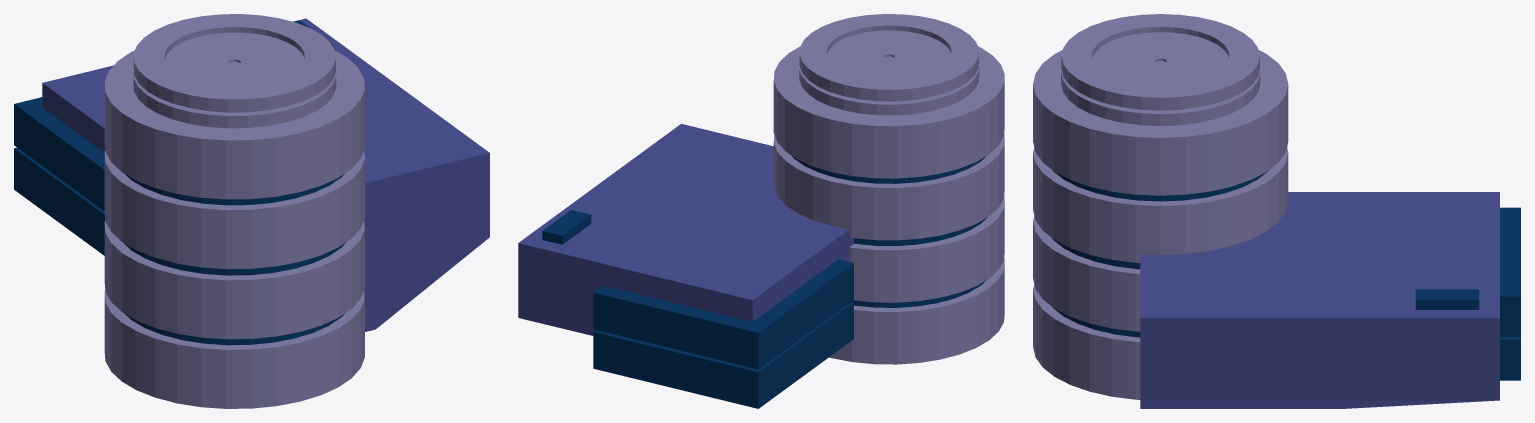
File: bUILDING6.fbx
The picture shows the model from 3 angles, left to right: view 1: azimuth 30°, elevation 25°; view 2: azimuth 150°, elevation 25°; view 3: azimuth 270°, elevation 25°; orthographic projection. The views are drawn at different scales.
Parts seen in each view (by area): view 1: Cylinder.002, Cube, Cylinder.001, Cylinder, Cylinder.003, Cylinder.007, Cube.002, Cube.001, Cylinder.005, Cylinder.006, Cylinder.004; view 2: Cube, Cylinder.002, Cylinder.003, Cube.002, Cube.001, Cylinder, Cylinder.001, Cylinder.007, Cube.003, Cylinder.006, Cylinder.005, Cylinder.004; view 3: Cube, Cylinder.002, Cylinder.003, Cylinder.001, Cylinder, Cylinder.007, Cube.002, Cube.003, Cylinder.006, Cube.001, Cylinder.005, Cylinder.004.
Part boxes in pixels (x1=…): Cylinder.002: x1=104, y1=14, x2=364, y2=199; Cube: x1=42, y1=18, x2=489, y2=331; Cylinder.001: x1=104, y1=220, x2=364, y2=339; Cylinder: x1=104, y1=290, x2=364, y2=408; Cylinder.003: x1=104, y1=150, x2=364, y2=268; Cylinder.007: x1=165, y1=32, x2=304, y2=86; Cube.002: x1=14, y1=97, x2=104, y2=211; Cube.001: x1=14, y1=147, x2=105, y2=255; Cylinder.005: x1=124, y1=242, x2=345, y2=275; Cylinder.006: x1=125, y1=174, x2=344, y2=205; Cylinder.004: x1=125, y1=313, x2=344, y2=345; Cube: x1=518, y1=123, x2=854, y2=335; Cylinder.002: x1=773, y1=14, x2=1004, y2=178; Cylinder.003: x1=773, y1=134, x2=1004, y2=240; Cube.002: x1=593, y1=259, x2=853, y2=369; Cube.001: x1=593, y1=302, x2=853, y2=408; Cylinder: x1=829, y1=259, x2=1004, y2=364; Cylinder.001: x1=849, y1=197, x2=1004, y2=302; Cylinder.007: x1=827, y1=30, x2=951, y2=78; Cube.003: x1=542, y1=210, x2=591, y2=244; Cylinder.006: x1=792, y1=156, x2=986, y2=183; Cylinder.005: x1=854, y1=217, x2=987, y2=245; Cylinder.004: x1=851, y1=280, x2=986, y2=307; Cube: x1=1140, y1=192, x2=1499, y2=408; Cylinder.002: x1=1033, y1=14, x2=1288, y2=195; Cylinder.003: x1=1033, y1=147, x2=1288, y2=262; Cylinder.001: x1=1033, y1=216, x2=1140, y2=331; Cylinder: x1=1033, y1=284, x2=1140, y2=399; Cylinder.007: x1=1092, y1=32, x2=1228, y2=84; Cube.002: x1=1500, y1=207, x2=1520, y2=336; Cube.003: x1=1415, y1=289, x2=1479, y2=309; Cylinder.006: x1=1052, y1=170, x2=1268, y2=201; Cube.001: x1=1500, y1=337, x2=1520, y2=380; Cylinder.005: x1=1052, y1=238, x2=1140, y2=269; Cylinder.004: x1=1052, y1=307, x2=1140, y2=337.
Size of the model in its own units: 1268 by 1007 by 1530.
